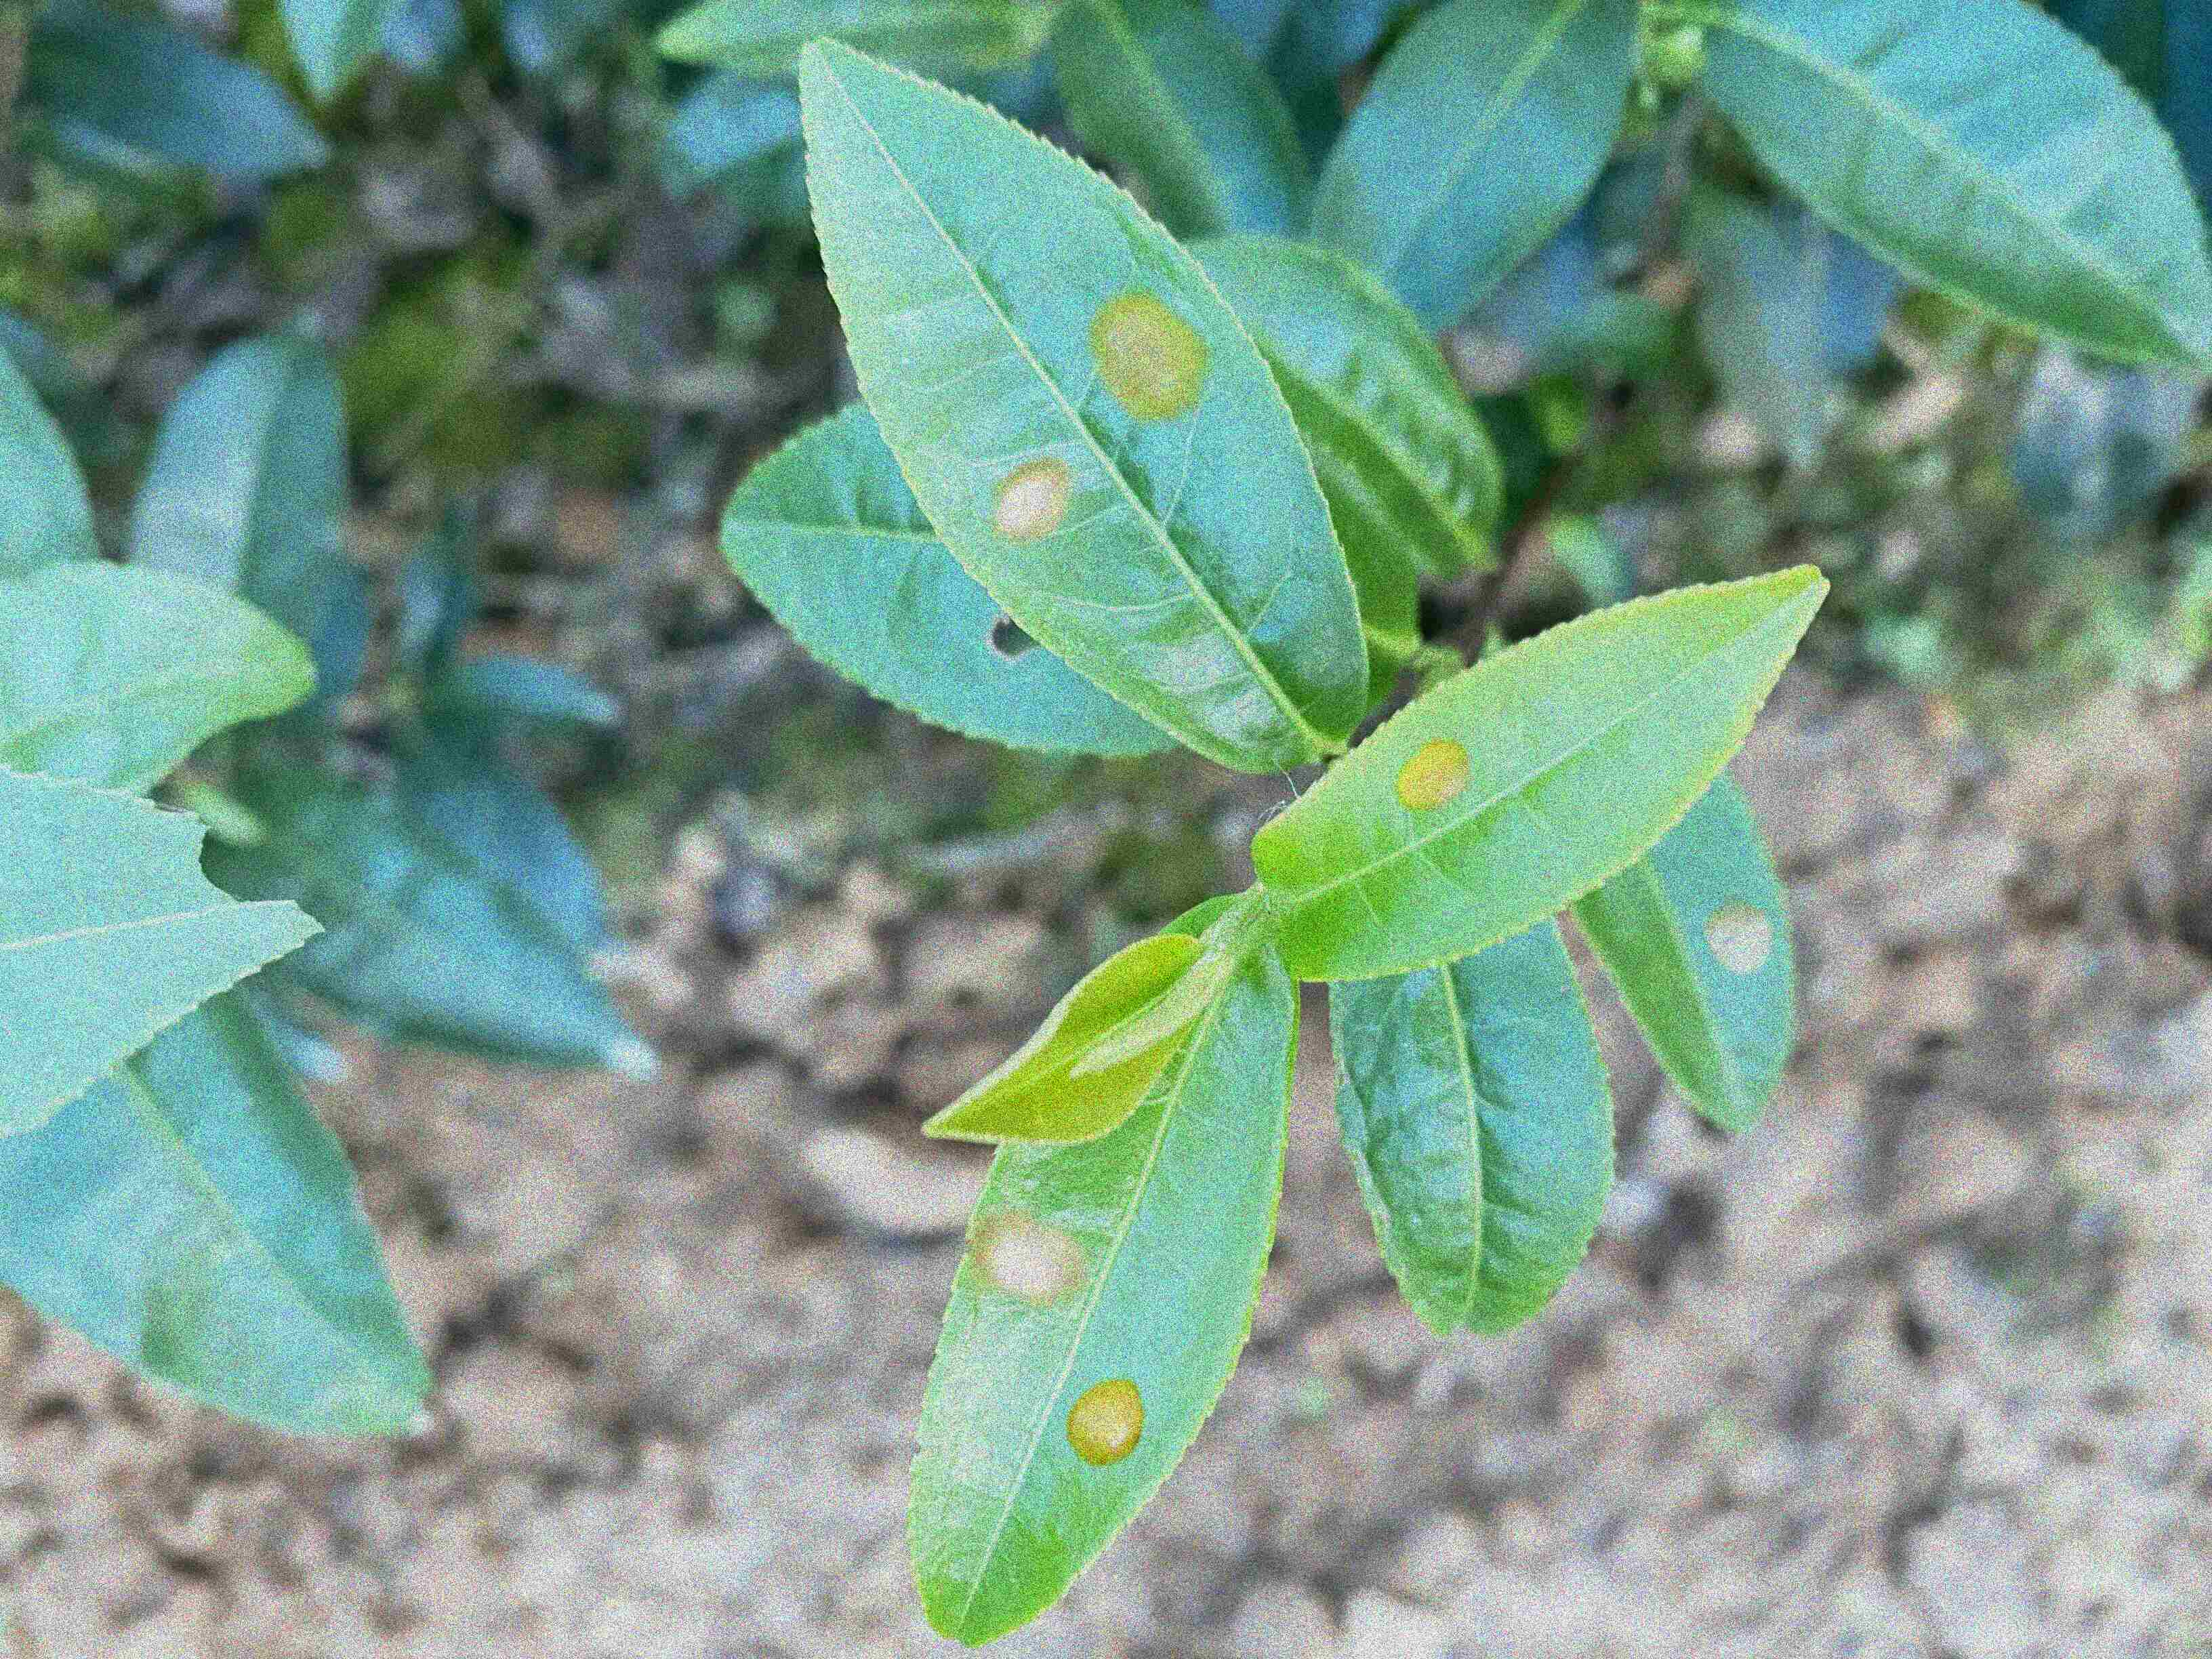chabing_high: (798, 37, 1369, 775), (904, 892, 1301, 1647)
chabing_low: (1249, 563, 1834, 983), (1568, 763, 1796, 1136)
chihuo_low: (2, 760, 331, 1138)
healthy: (920, 934, 1221, 1147)
